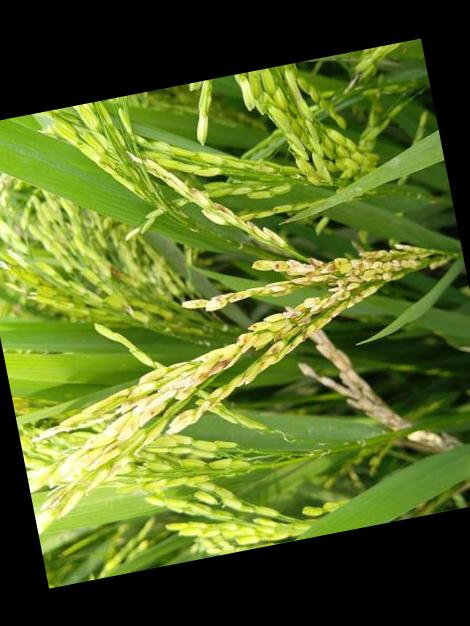Panicle Blight: (182, 280, 302, 313), (295, 302, 343, 342), (193, 351, 233, 386), (201, 196, 243, 223), (288, 299, 323, 330), (255, 257, 315, 275), (267, 322, 295, 354), (305, 258, 341, 281), (342, 258, 376, 279), (349, 284, 380, 304), (320, 287, 350, 304), (383, 258, 407, 279), (183, 182, 203, 199), (245, 220, 260, 231)
